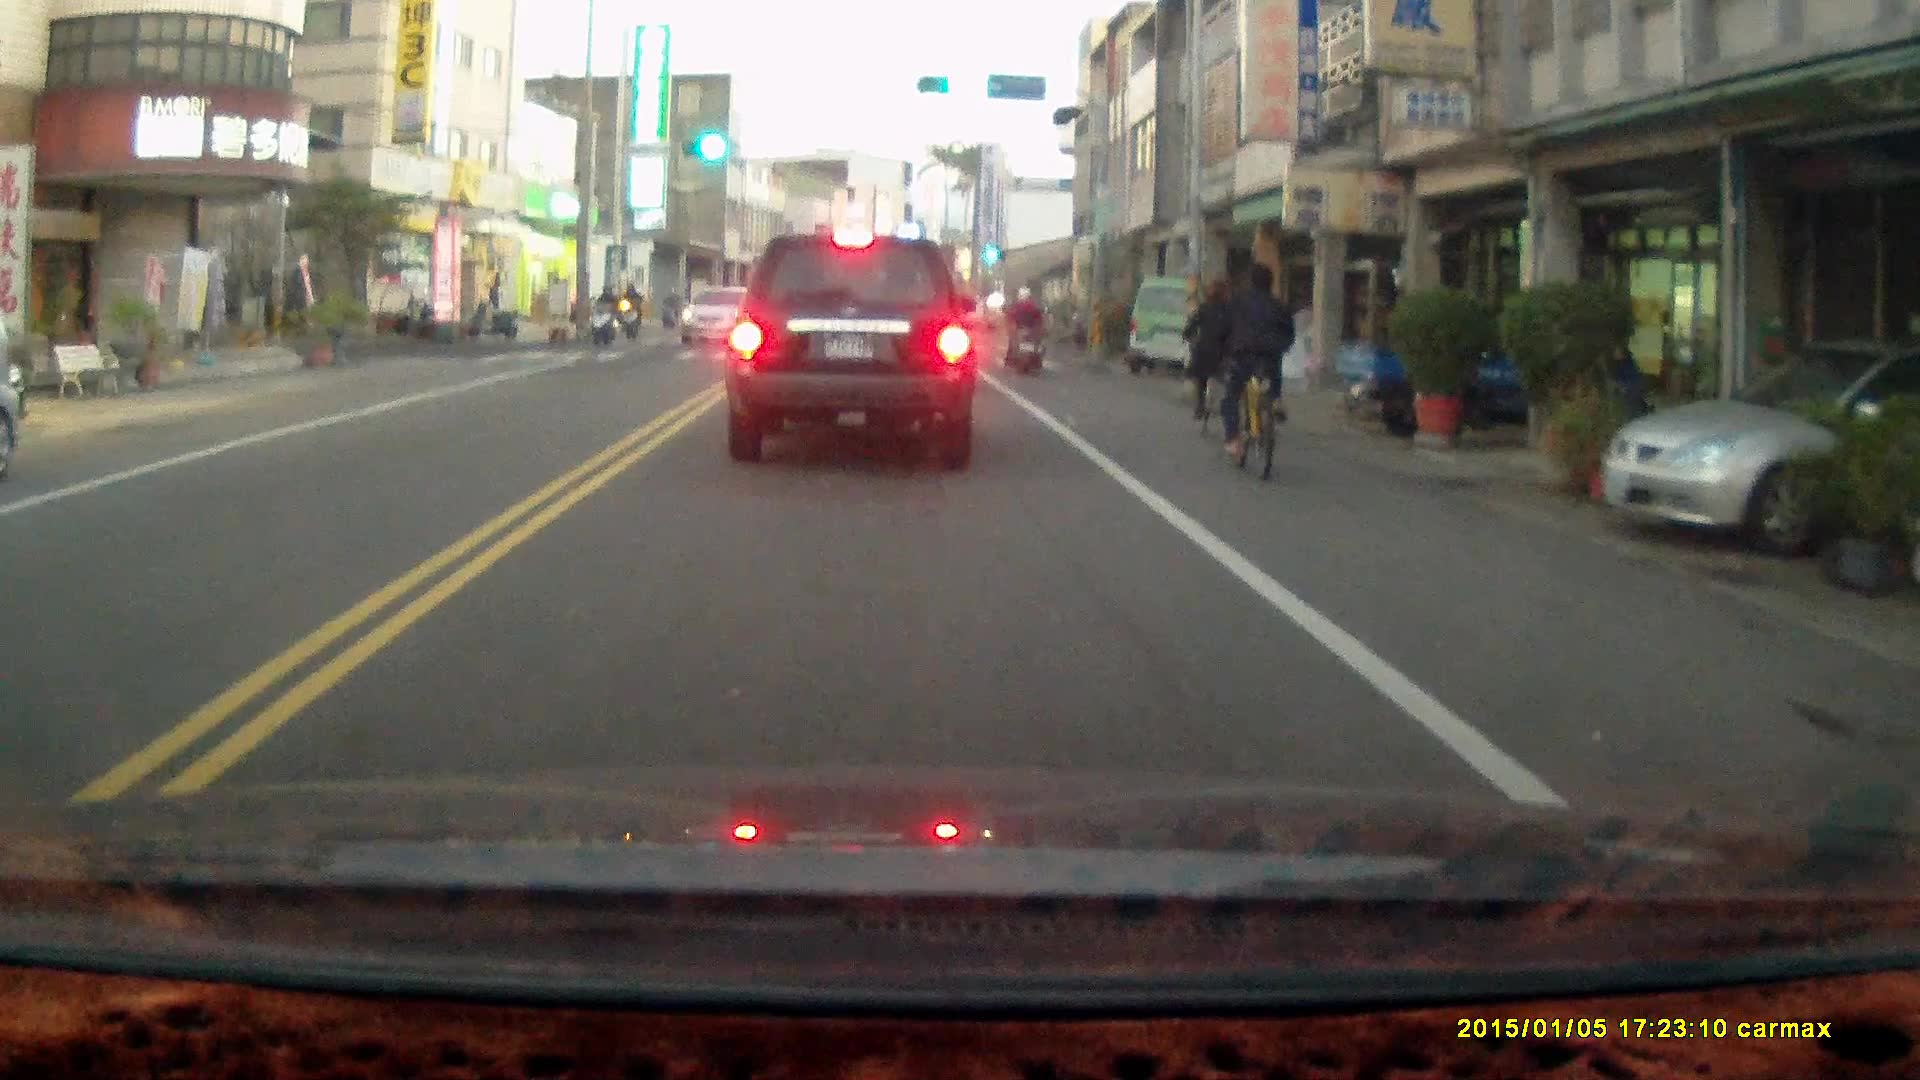pedestrian: (480, 261, 500, 315)
rider: (1211, 262, 1296, 481), (1180, 275, 1244, 444), (996, 283, 1049, 375), (585, 281, 620, 351), (614, 280, 641, 341), (658, 286, 678, 326)
vehicle: (1600, 341, 1920, 565), (726, 233, 980, 473), (1132, 277, 1228, 371), (674, 286, 776, 350)
